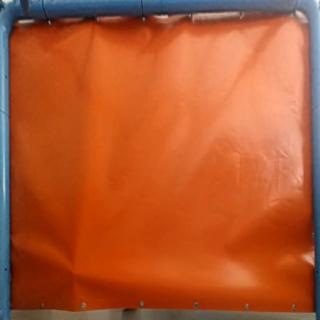Hit-hRxx: (65, 264, 83, 283)
